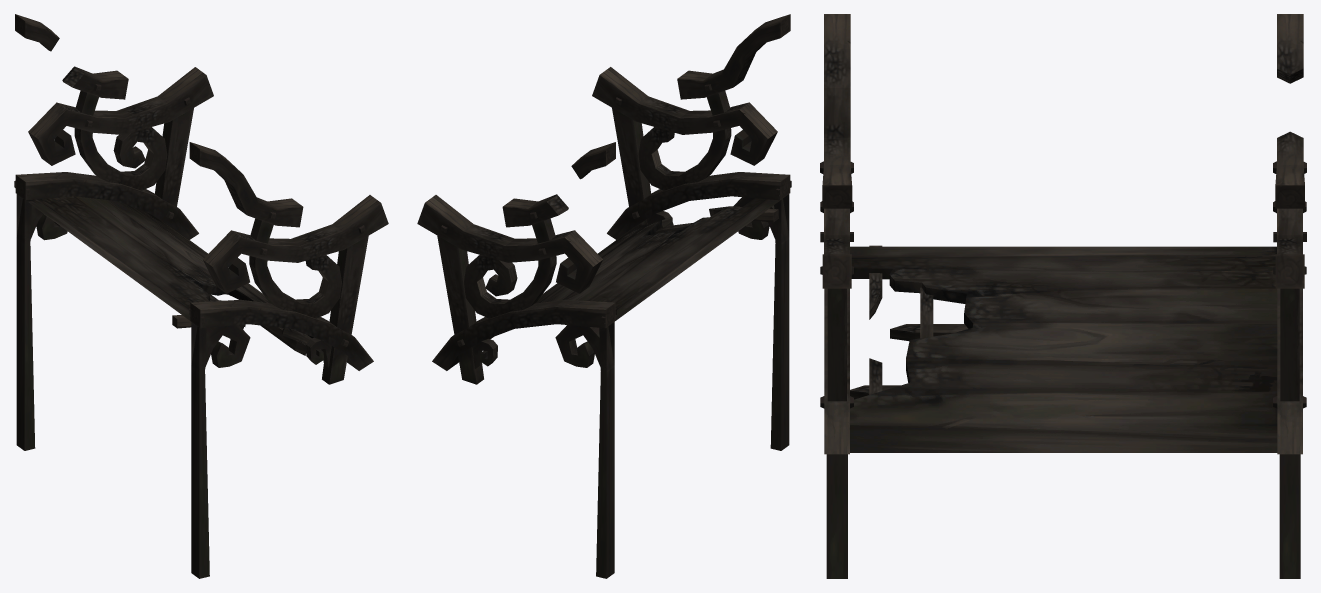
Rendered from wooden_bridge_burnt_01_a.fbx.
The picture shows the model from 3 angles, left to right: view 1: azimuth 30°, elevation 25°; view 2: azimuth 150°, elevation 25°; view 3: azimuth 270°, elevation 25°; orthographic projection. The views are drawn at different scales.
Visible parts, largest first — view 1: obj2.008; view 2: obj2.008; view 3: obj2.008.
Boxes of the visible parts, x1=… form: obj2.008: x1=14, y1=14, x2=388, y2=578; obj2.008: x1=417, y1=14, x2=791, y2=578; obj2.008: x1=820, y1=14, x2=1306, y2=578.
Bounding box in the file's own units: 4.87 × 10.35 × 8.18.
